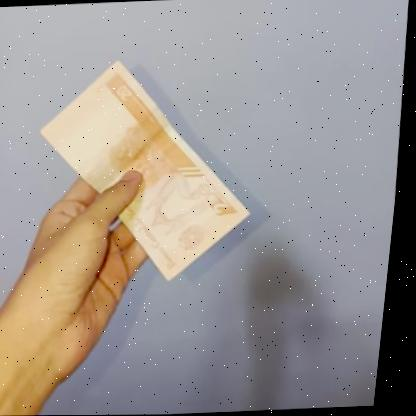twenty-back-vef: (26, 54, 269, 287)
